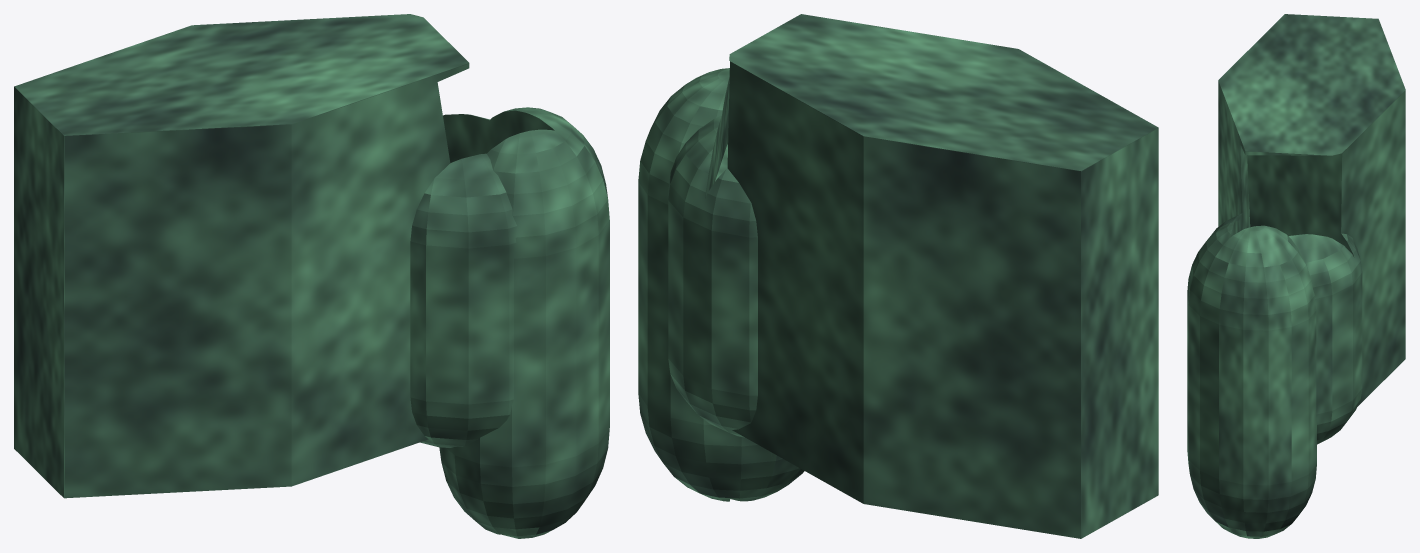
3 views of the same model, side by side, from view 1: azimuth 30°, elevation 25°; view 2: azimuth 150°, elevation 25°; view 3: azimuth 270°, elevation 25° (orthographic). The views are drawn at different scales.
Parts seen in each view (by area): view 1: geometry_0; view 2: geometry_0; view 3: geometry_0.
Boxes of the visible parts, box(x1,y1,x2,y2) form: geometry_0: box(14, 14, 609, 538); geometry_0: box(638, 14, 1158, 538); geometry_0: box(1187, 14, 1405, 538).
Size of the model in its own units: 1.71 by 1.53 by 0.8415.
1 material, 1 textured.
